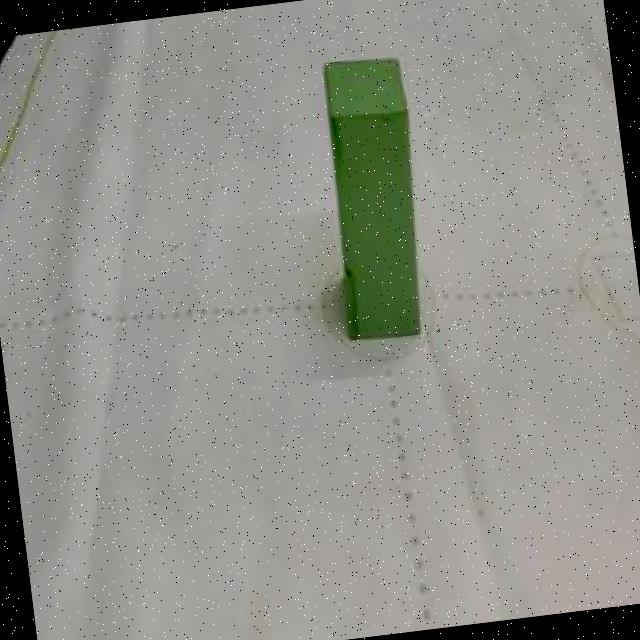greenbox: (316, 50, 432, 341)
